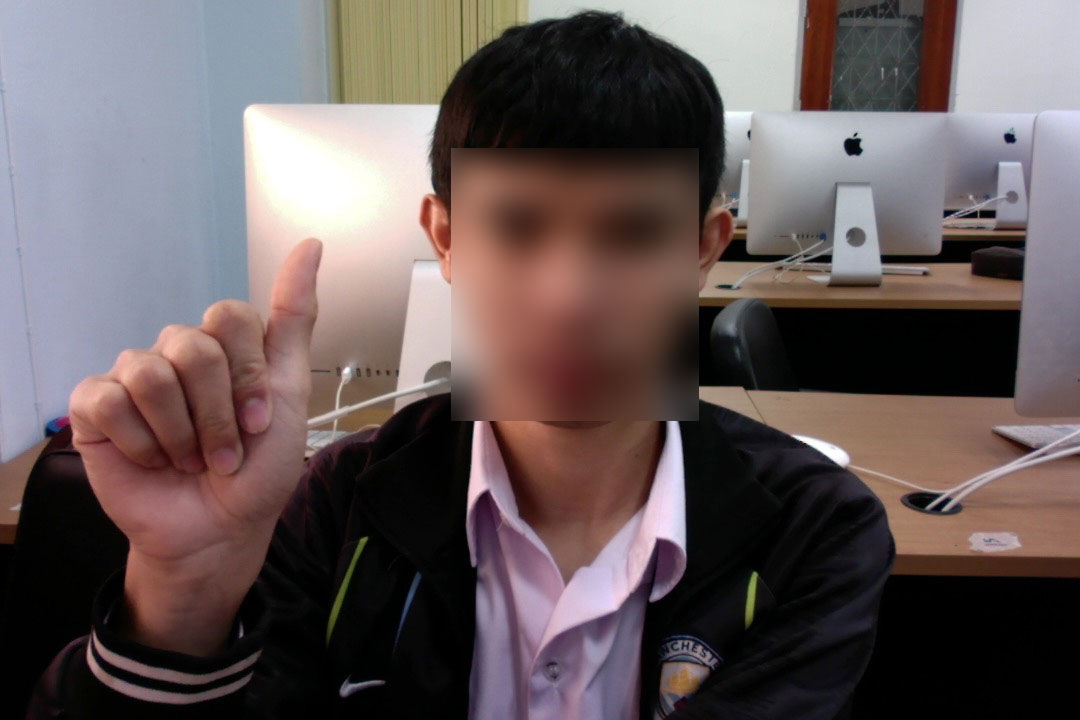or: (45, 226, 343, 572)
